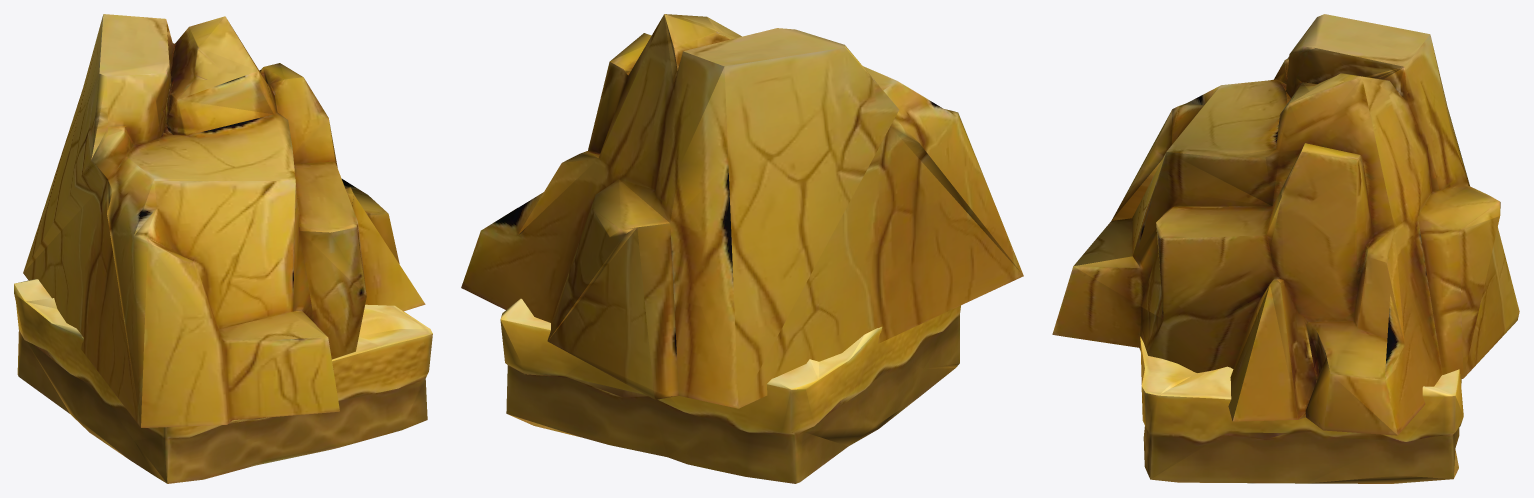
File: mtn_desert.glb
3 views of the same model, side by side, from view 1: azimuth 30°, elevation 25°; view 2: azimuth 150°, elevation 25°; view 3: azimuth 270°, elevation 25° (orthographic). The views are drawn at different scales.
Visible parts, largest first — view 1: Mesh1.0, Mesh0; view 2: Mesh1.0, Mesh0; view 3: Mesh1.0, Mesh0.
Part boxes in pixels (x1,y1,x2,y2): Mesh1.0: [23, 14, 425, 427]; Mesh0: [14, 279, 432, 483]; Mesh1.0: [461, 14, 1023, 408]; Mesh0: [500, 298, 960, 483]; Mesh1.0: [1052, 14, 1519, 435]; Mesh0: [1140, 336, 1463, 483].
Bounding box in the file's own units: 2.52 × 2.34 × 2.73.
2 materials, 2 textured.
